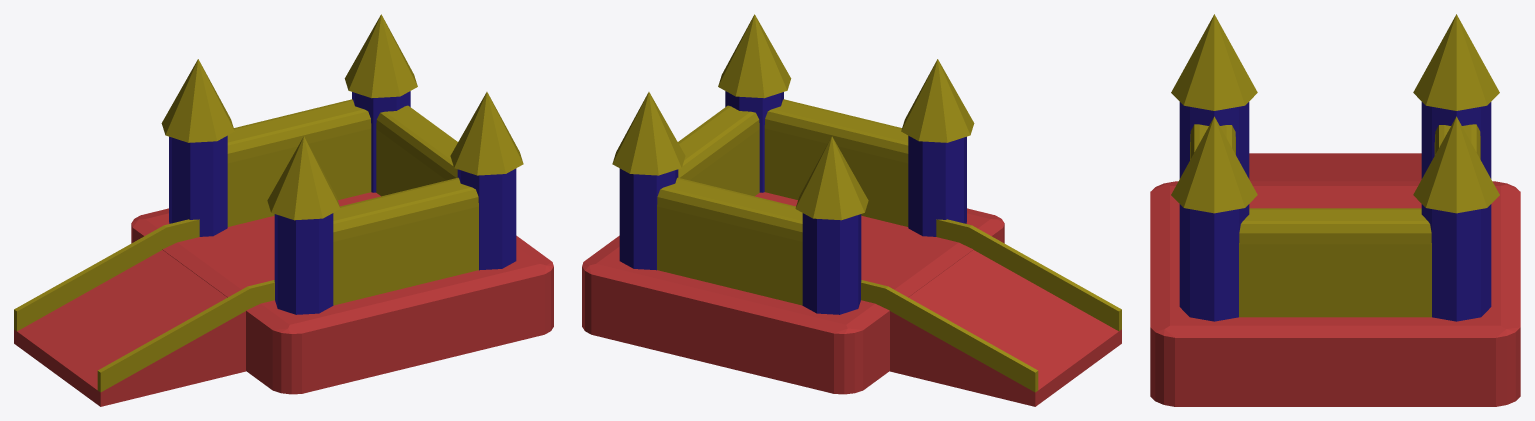
File: InflatableCastle.fbx
The picture shows the model from 3 angles, left to right: view 1: azimuth 30°, elevation 25°; view 2: azimuth 150°, elevation 25°; view 3: azimuth 270°, elevation 25°; orthographic projection. The views are drawn at different scales.
Parts seen in each view (by area): view 1: Cube, Cube.002, Cube.001, Cone.002, Cone.001, Cone.003, Cube.003, Cone; view 2: Cube, Cube.001, Cube.002, Cone.001, Cone.002, Cone, Cube.003, Cone.003; view 3: Cube, Cube.003, Cone, Cone.003, Cone.001, Cone.002, Cube.001, Cube.002.
Boxes of the visible parts, left/top/right/bottom form: Cube: left=14, top=192, right=553, bottom=406; Cube.002: left=333, top=177, right=478, bottom=305; Cube.001: left=227, top=99, right=371, bottom=226; Cone.002: left=267, top=136, right=340, bottom=314; Cone.001: left=161, top=59, right=234, bottom=236; Cone.003: left=450, top=92, right=523, bottom=270; Cube.003: left=376, top=105, right=457, bottom=196; Cone: left=344, top=14, right=417, bottom=192; Cube: left=582, top=192, right=1121, bottom=406; Cube.001: left=657, top=177, right=802, bottom=305; Cube.002: left=764, top=99, right=908, bottom=226; Cone.001: left=795, top=136, right=868, bottom=314; Cone.002: left=901, top=59, right=974, bottom=236; Cone: left=612, top=92, right=685, bottom=270; Cube.003: left=678, top=105, right=759, bottom=196; Cone.003: left=718, top=14, right=791, bottom=192; Cube: left=1150, top=153, right=1520, bottom=406; Cube.003: left=1239, top=208, right=1431, bottom=317; Cone: left=1413, top=116, right=1499, bottom=321; Cone.003: left=1171, top=116, right=1257, bottom=321; Cone.001: left=1413, top=14, right=1499, bottom=178; Cone.002: left=1171, top=14, right=1257, bottom=178; Cube.001: left=1434, top=124, right=1480, bottom=159; Cube.002: left=1190, top=124, right=1235, bottom=159.
Bounding box in the file's own units: 255 × 132 × 168.
